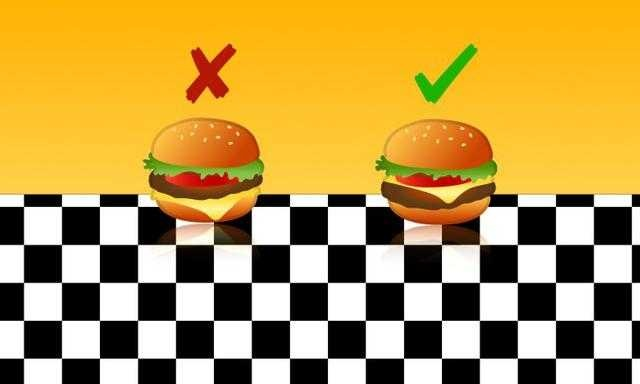hamburger: (364, 113, 510, 233), (136, 123, 277, 227)
